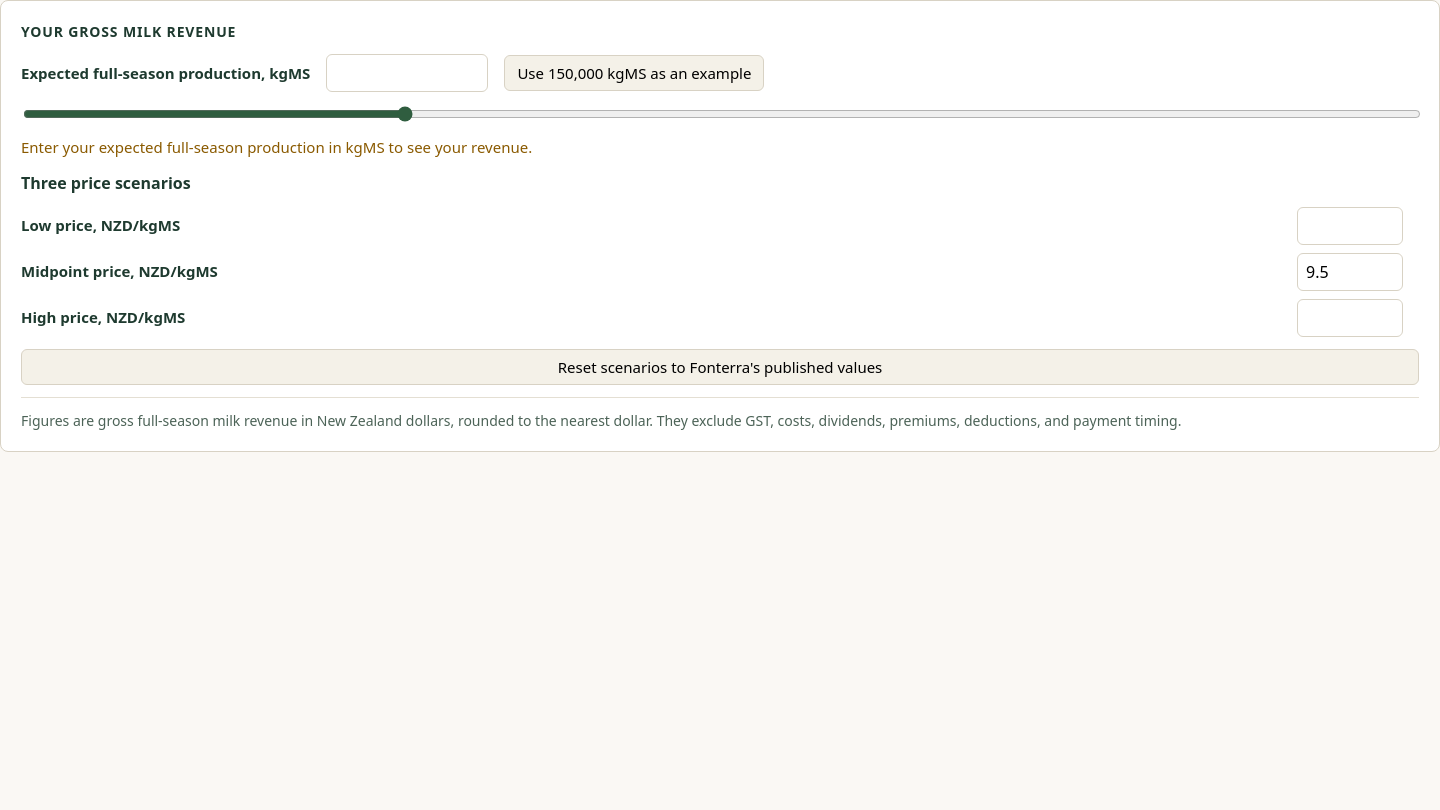
Scenario: scenario prices › leaves missing range endpoints blank and editable
Type "150000" into the field labelled "Expected full-season production, kgMS" at (407, 73), box left=326, top=54, right=488, bottom=92
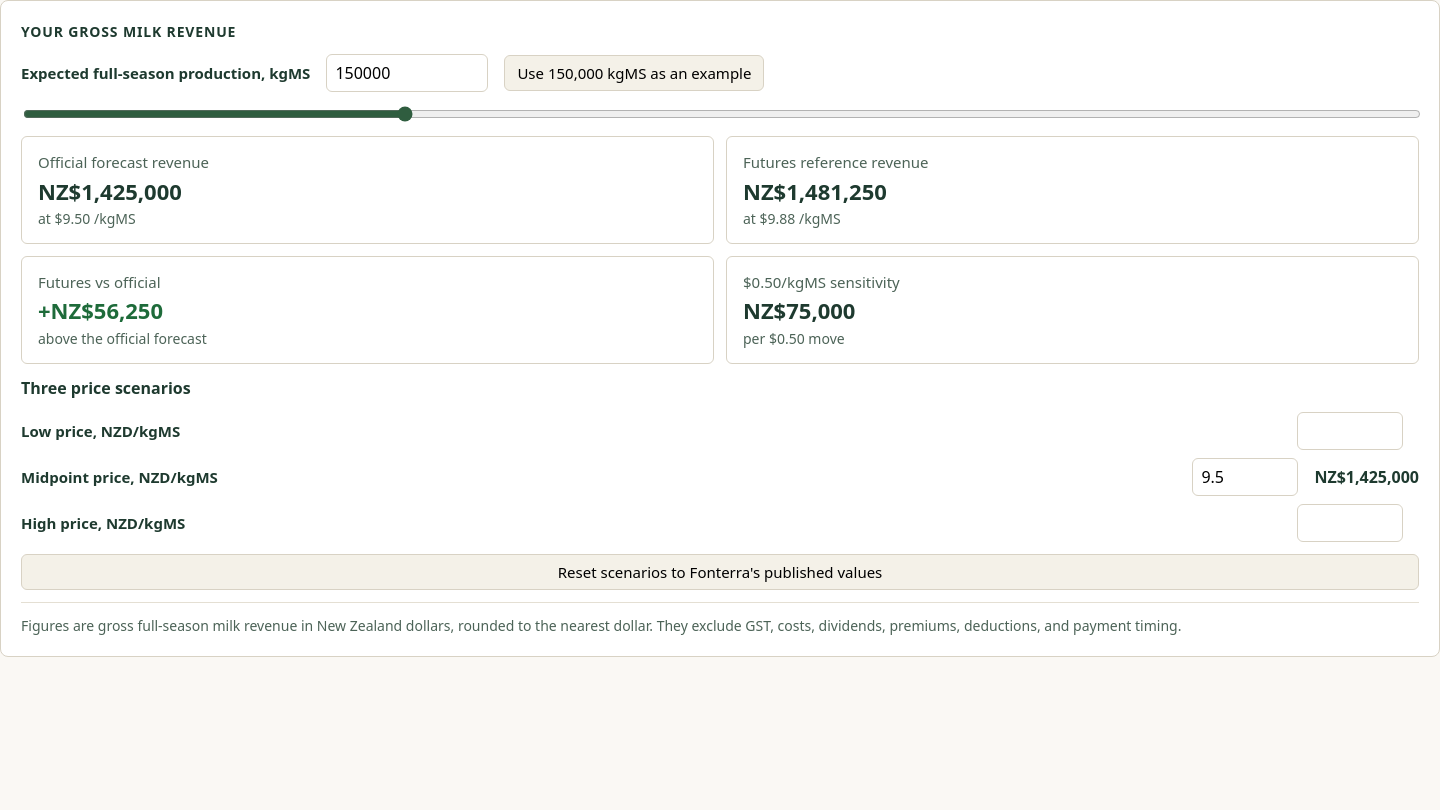
Expected: the text "NZ$1,275,000" is not shown
Type "8.5" into the field labelled "Low price, NZD/kgMS" at (1350, 431), box left=1297, top=412, right=1403, bottom=450
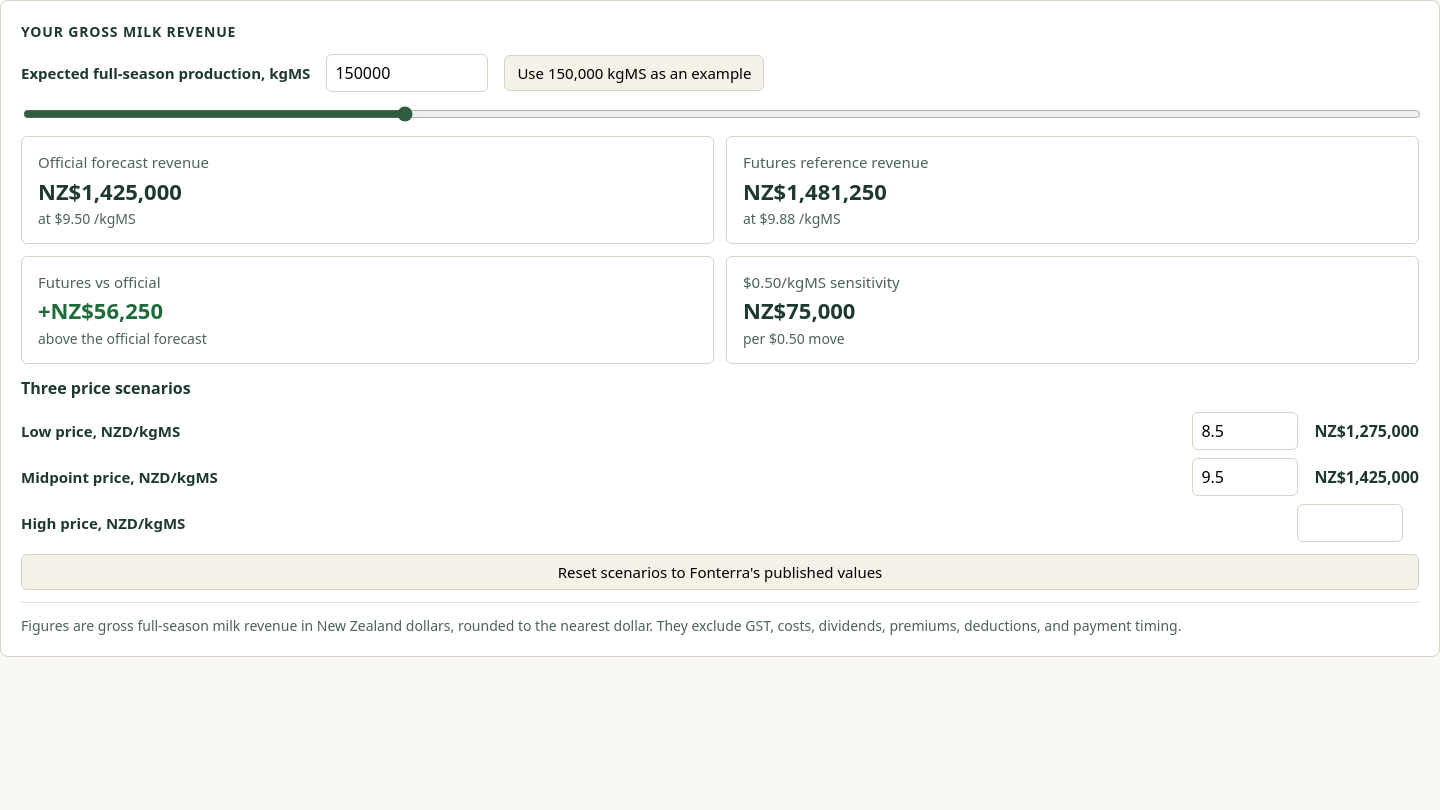
Now the text "NZ$1,275,000" is shown, box left=1314, top=419, right=1419, bottom=443
